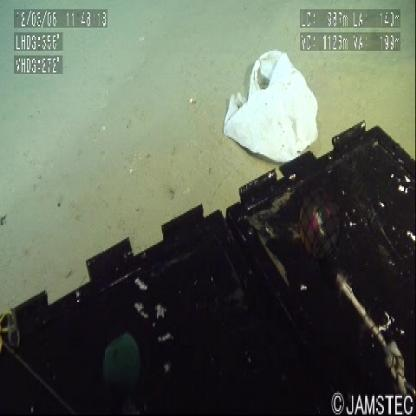Rov: (1, 112, 416, 416)
Rác: (216, 43, 327, 163)
